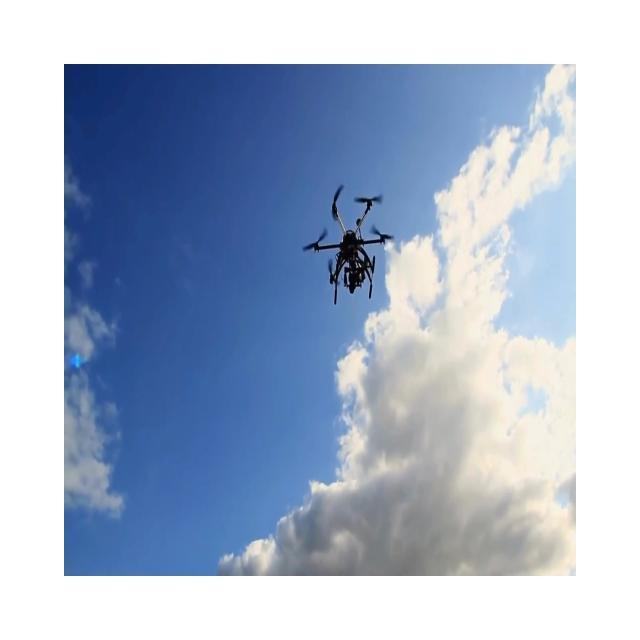drone: (302, 183, 394, 305)
